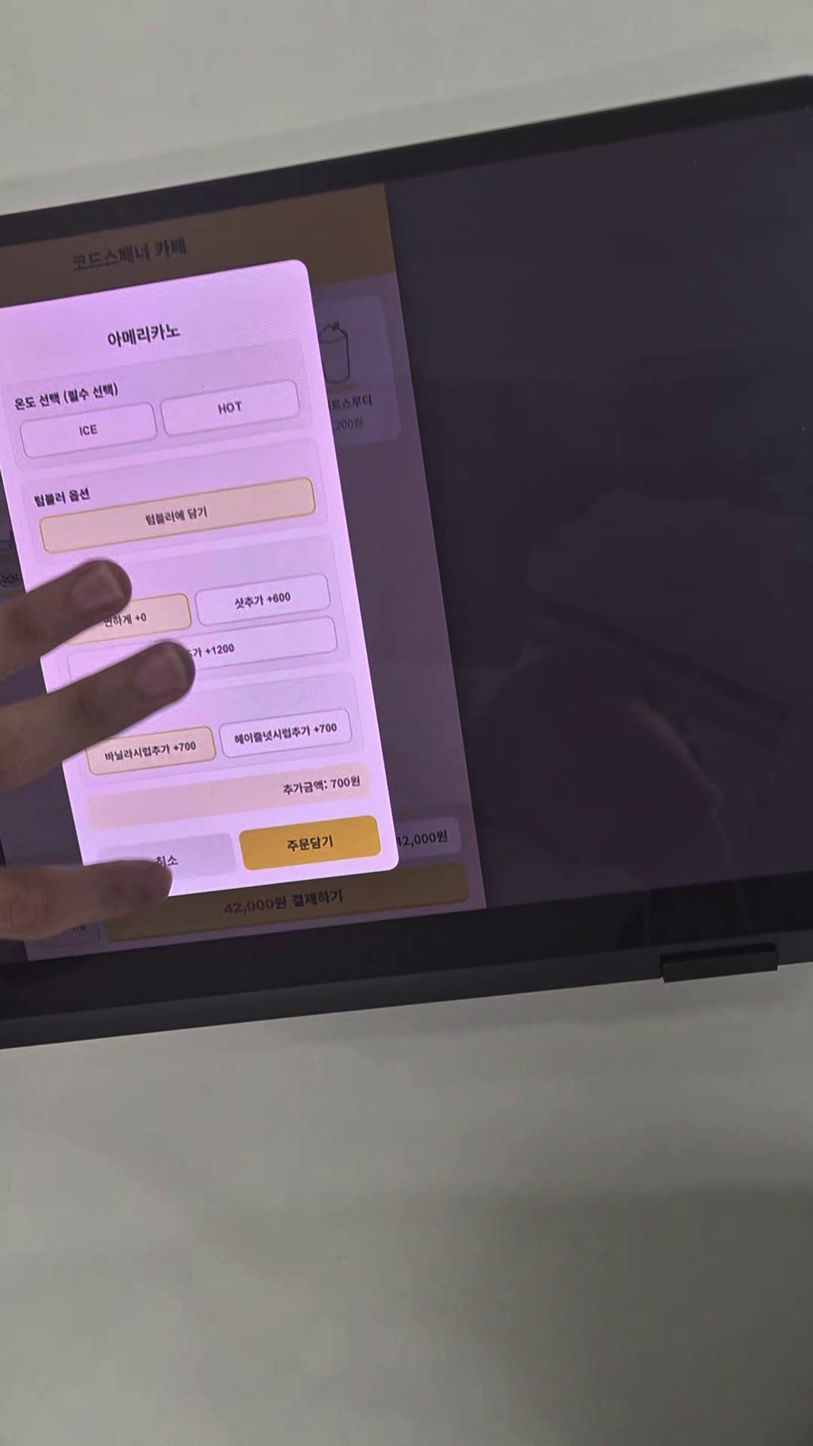action_button: (238, 814, 381, 871)
option_button: (71, 614, 345, 693), (42, 480, 314, 556), (161, 380, 305, 440), (14, 402, 156, 462), (218, 703, 355, 760), (71, 586, 192, 649), (196, 572, 333, 627), (92, 722, 217, 772)
popup_modal: (2, 255, 403, 916)
